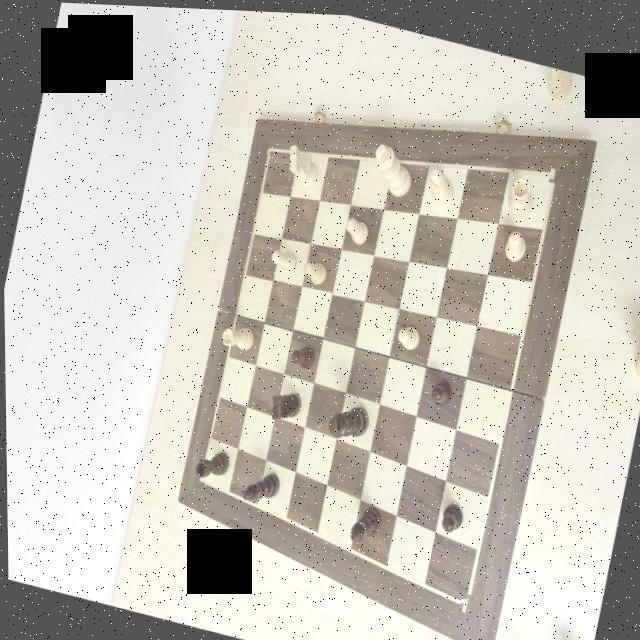chess-table-corners: (457, 587, 475, 609), (548, 162, 560, 178), (266, 140, 276, 152), (197, 475, 204, 482)
